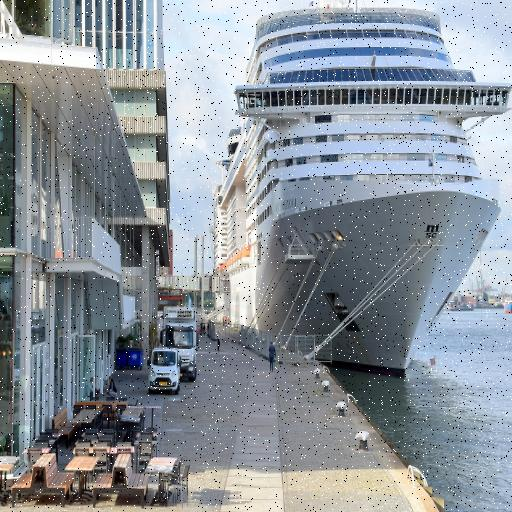cruises: (210, 1, 512, 389)
